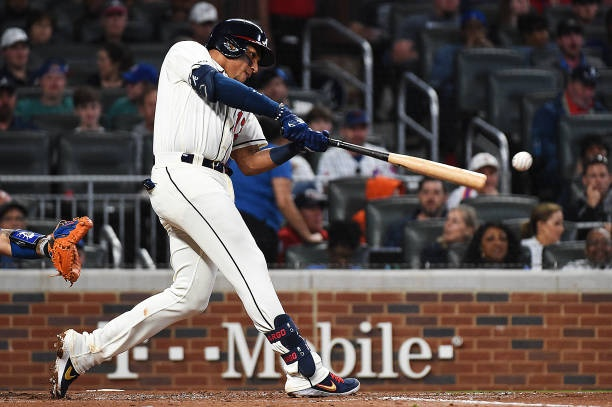bita: (325, 136, 490, 190)
